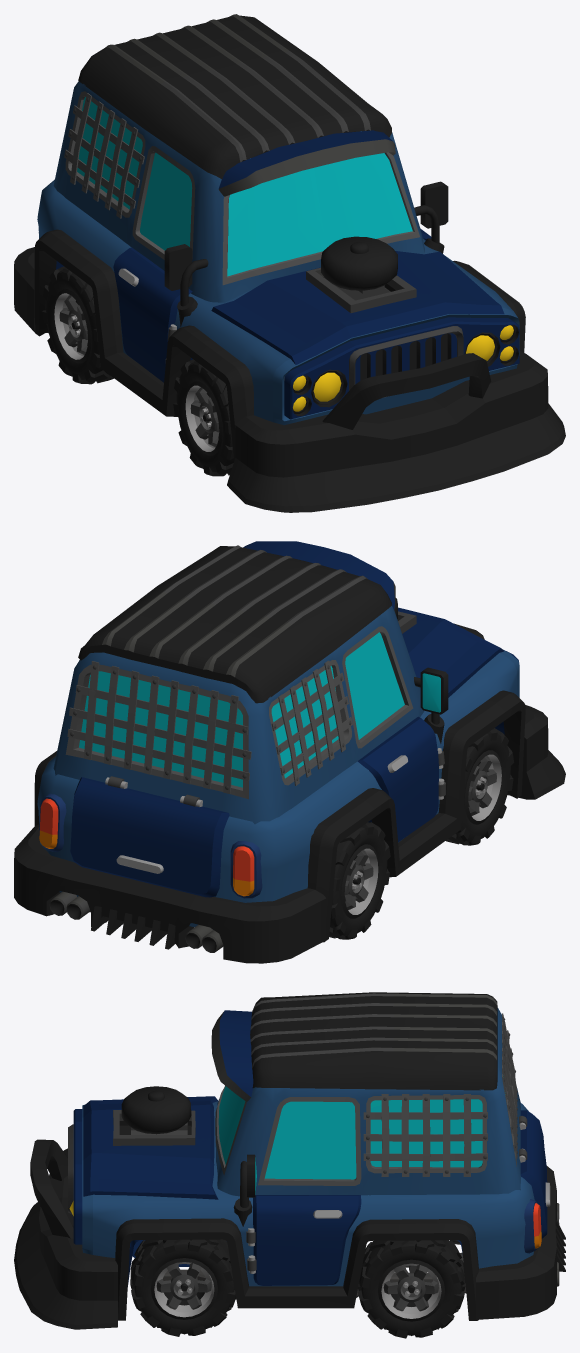
The model's file is VEH10-B.fbx.
3 views of the same model, one above another, from view 1: azimuth 30°, elevation 25°; view 2: azimuth 150°, elevation 25°; view 3: azimuth 270°, elevation 25° (orthographic). The views are drawn at different scales.
Parts seen in each view (by area): view 1: VEH10_B, V10B_Wheel_FR, V10B_Wheel_BR; view 2: VEH10_B, V10B_Wheel_BR, V10B_Wheel_FR; view 3: VEH10_B, V10B_Wheel_BL, V10B_Wheel_FL.
Boxes of the visible parts, bbox=[...] form: VEH10_B: bbox=[14, 14, 565, 512]; V10B_Wheel_FR: bbox=[173, 359, 234, 476]; V10B_Wheel_BR: bbox=[42, 266, 113, 384]; VEH10_B: bbox=[14, 541, 565, 963]; V10B_Wheel_BR: bbox=[329, 822, 390, 939]; V10B_Wheel_FR: bbox=[446, 728, 513, 845]; VEH10_B: bbox=[14, 992, 565, 1329]; V10B_Wheel_BL: bbox=[358, 1240, 465, 1338]; V10B_Wheel_FL: bbox=[130, 1239, 236, 1336].
Bounding box in the file's own units: 271 × 234 × 455.
1 material, 1 textured.
